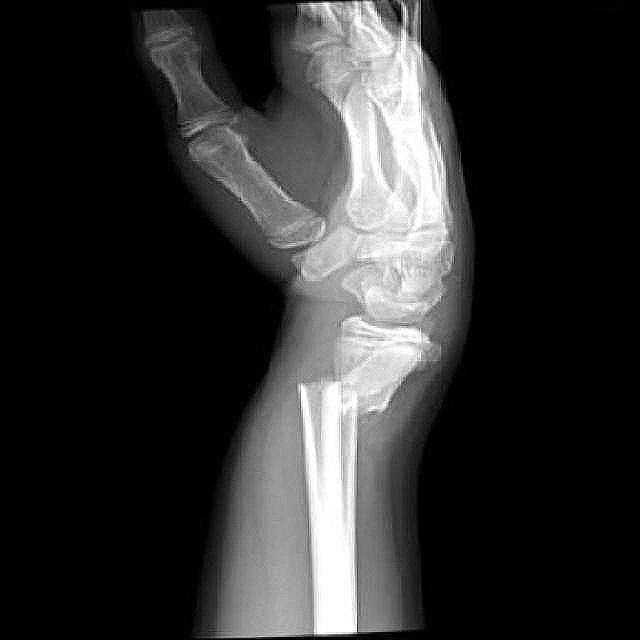bone: (294, 363, 382, 423)
